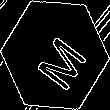M_NW: (24, 21, 86, 89)
